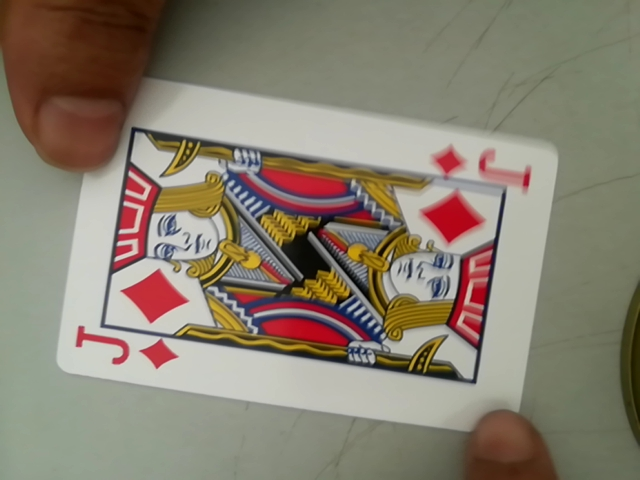fk j: (64, 325, 185, 377), (426, 138, 538, 188)
